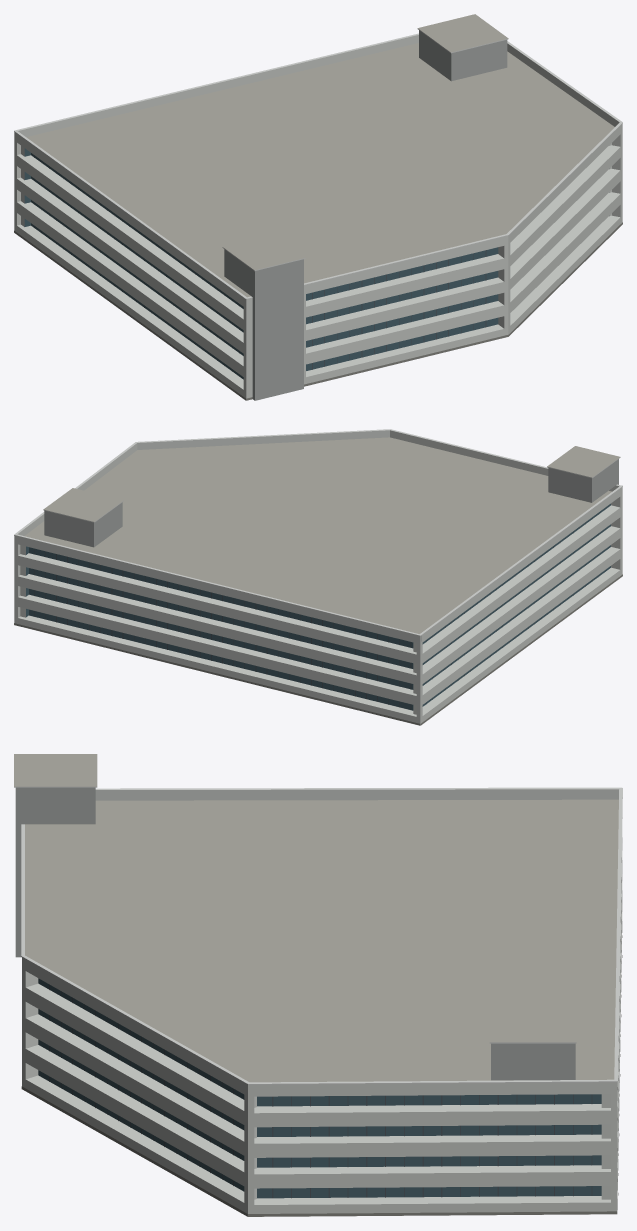
The picture shows the model from 3 angles, top to bottom: view 1: azimuth 30°, elevation 25°; view 2: azimuth 150°, elevation 25°; view 3: azimuth 270°, elevation 25°; orthographic projection. The views are drawn at different scales.
Visible parts, largest first — view 1: parking__roof, parking__wall, parking__wall2, parking__parapet, parking__glass, parking__trim, parking__base, parking__frame; view 2: parking__roof, parking__wall, parking__glass, parking__parapet, parking__wall2, parking__trim, parking__base, parking__frame; view 3: parking__roof, parking__wall, parking__glass, parking__parapet, parking__wall2, parking__trim, parking__base, parking__frame.
Boxes of the visible parts, left/top/right/bottom form: parking__roof: left=26, top=14, right=614, bottom=297; parking__wall: left=14, top=130, right=622, bottom=400; parking__wall2: left=224, top=30, right=507, bottom=400; parking__parapet: left=14, top=35, right=622, bottom=306; parking__glass: left=24, top=148, right=609, bottom=379; parking__trim: left=14, top=28, right=622, bottom=299; parking__base: left=14, top=222, right=622, bottom=400; parking__frame: left=34, top=155, right=486, bottom=376; parking__roof: left=24, top=437, right=619, bottom=633; parking__wall: left=14, top=493, right=622, bottom=725; parking__glass: left=26, top=503, right=610, bottom=710; parking__parapet: left=14, top=430, right=622, bottom=642; parking__wall2: left=44, top=459, right=618, bottom=547; parking__trim: left=14, top=429, right=622, bottom=636; parking__base: left=14, top=574, right=622, bottom=725; parking__frame: left=34, top=513, right=598, bottom=709; parking__roof: left=14, top=754, right=618, bottom=1216; parking__wall: left=22, top=838, right=622, bottom=1216; parking__glass: left=38, top=978, right=601, bottom=1198; parking__parapet: left=22, top=789, right=618, bottom=1094; parking__wall2: left=15, top=787, right=575, bottom=1080; parking__trim: left=14, top=786, right=622, bottom=1084; parking__base: left=21, top=935, right=622, bottom=1216; parking__frame: left=49, top=984, right=592, bottom=1198.
Bounding box in the file's own units: 66.42 × 17.92 × 57.68.
